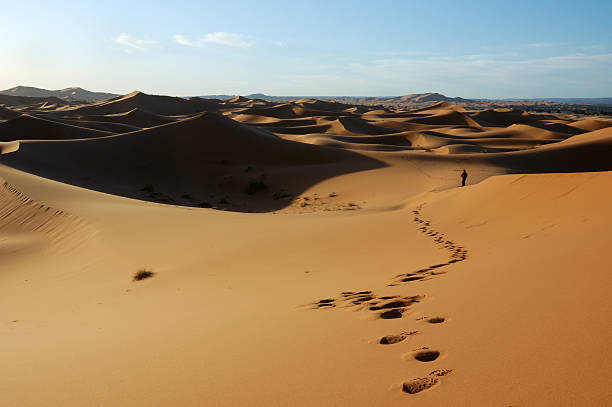human_foot_print: (388, 208, 467, 285), (309, 291, 423, 318), (402, 369, 452, 393)
